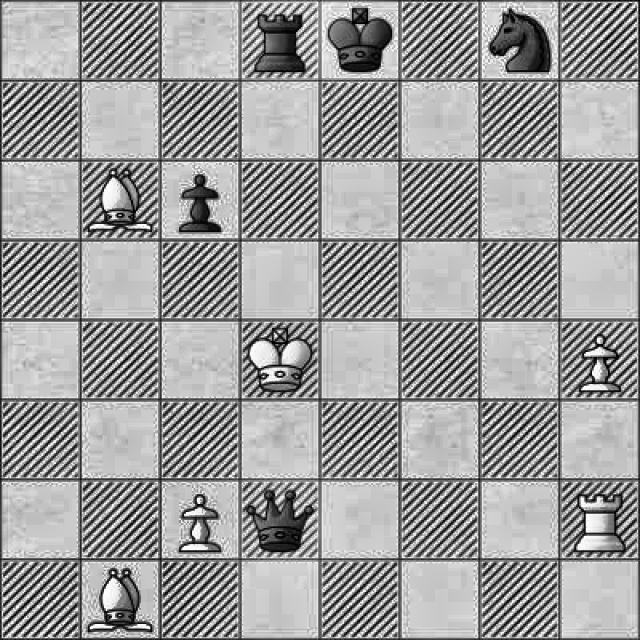Black Knight: (486, 4, 552, 77)
black king: (322, 4, 399, 78)
black pawn: (172, 168, 228, 238)
black rook: (244, 6, 317, 78)
white bishop: (80, 560, 155, 640), (87, 160, 158, 238)
white king: (244, 324, 318, 396)
white pawn: (563, 326, 640, 394), (166, 486, 228, 559)
white rook: (564, 482, 629, 557)
